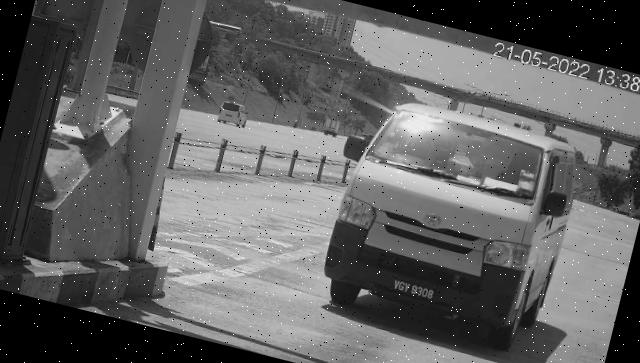License_Plate: (389, 274, 443, 308)
van: (316, 91, 588, 359)
